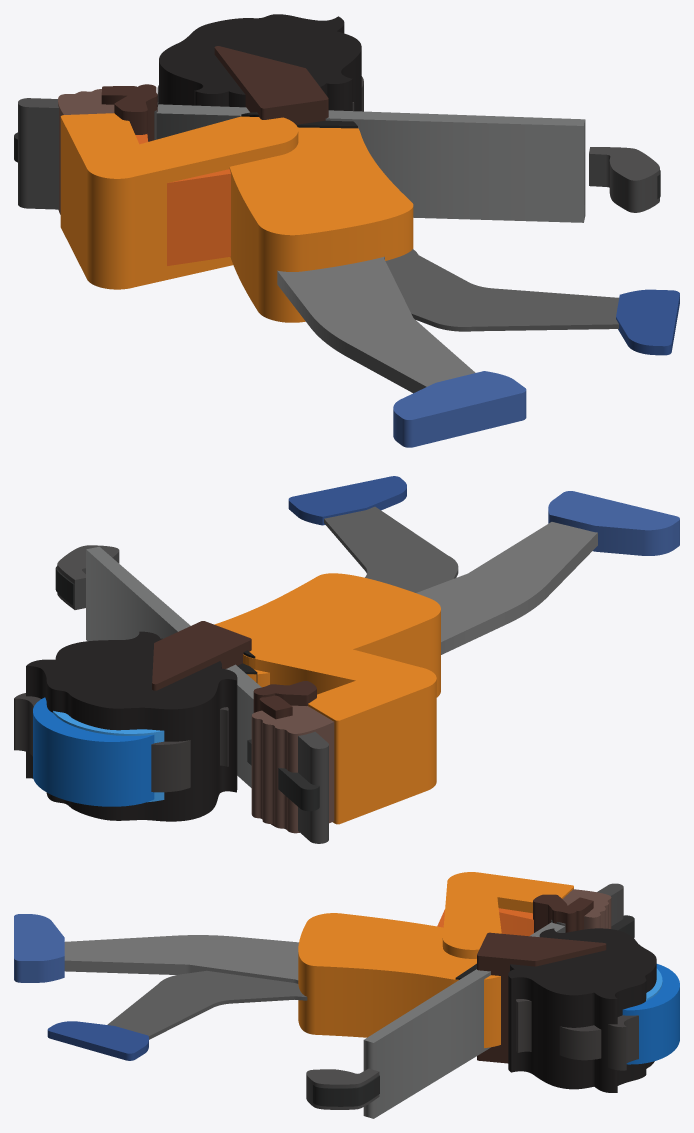
The model's file is emoji_u1f3cc_1f3ff.glb.
3 views of the same model, one above another, from view 1: azimuth 30°, elevation 25°; view 2: azimuth 150°, elevation 25°; view 3: azimuth 270°, elevation 25° (orthographic). The views are drawn at different scales.
Visible parts, largest first — view 1: emoji_u1f3cc_1f3ff; view 2: emoji_u1f3cc_1f3ff; view 3: emoji_u1f3cc_1f3ff.
Boxes of the visible parts, left/top/right/bottom form: emoji_u1f3cc_1f3ff: left=14, top=14, right=679, bottom=447; emoji_u1f3cc_1f3ff: left=14, top=476, right=679, bottom=843; emoji_u1f3cc_1f3ff: left=14, top=872, right=679, bottom=1118.
Bounding box in the file's own units: 0.0216 × 0.0058 × 0.0334.
